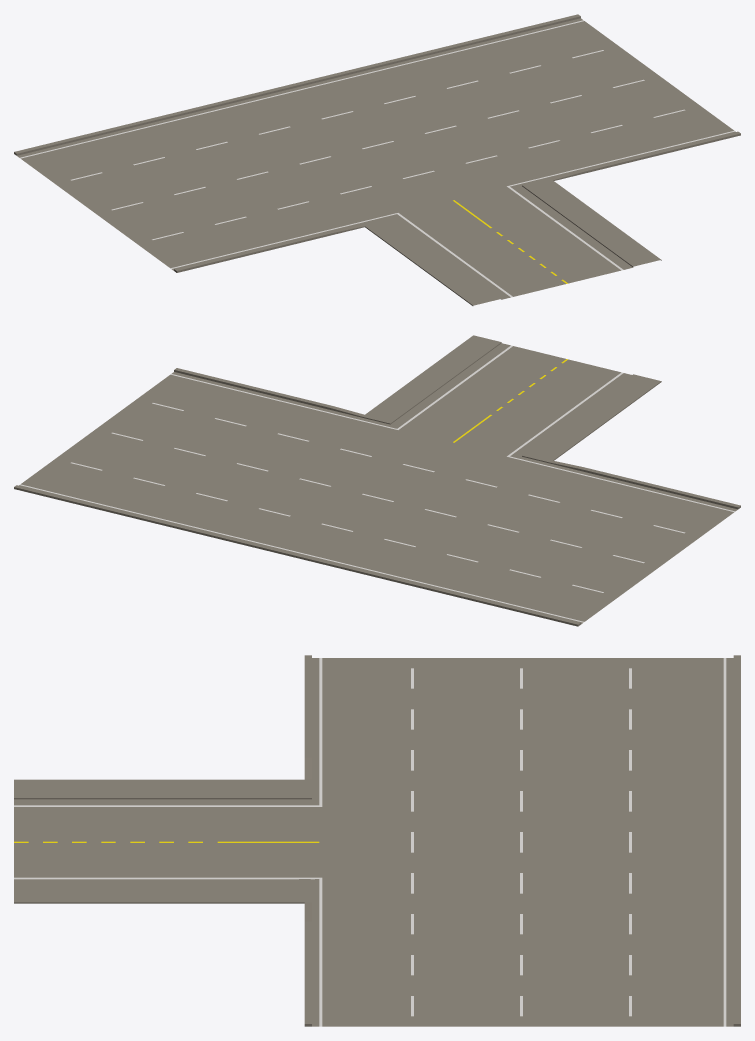
File: highway_Straight_T_Cross.fbx
The picture shows the model from 3 angles, top to bottom: view 1: azimuth 30°, elevation 25°; view 2: azimuth 150°, elevation 25°; view 3: azimuth 270°, elevation 25°; orthographic projection. The views are drawn at different scales.
Visible parts, largest first — view 1: T_Cross; view 2: T_Cross; view 3: T_Cross.
Part boxes in pixels (x1,y1,x2,y2): T_Cross: (14, 14, 740, 305); T_Cross: (14, 335, 740, 626); T_Cross: (14, 655, 740, 1026).
Bounding box in the file's own units: 60 × 0.2 × 50.
